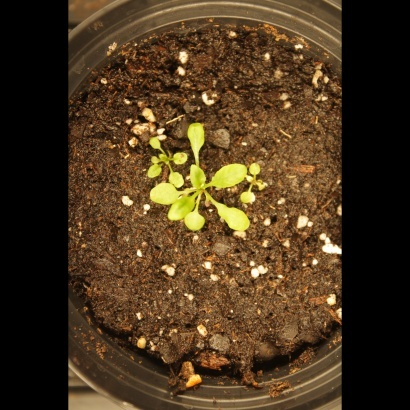leaf: (206, 193, 254, 235), (210, 156, 249, 191), (147, 180, 179, 210), (181, 120, 207, 155), (166, 195, 197, 224), (186, 158, 209, 193), (239, 187, 262, 210), (246, 160, 269, 183), (143, 130, 166, 153), (141, 156, 164, 179), (166, 147, 189, 170), (168, 166, 191, 189), (184, 208, 207, 231)
